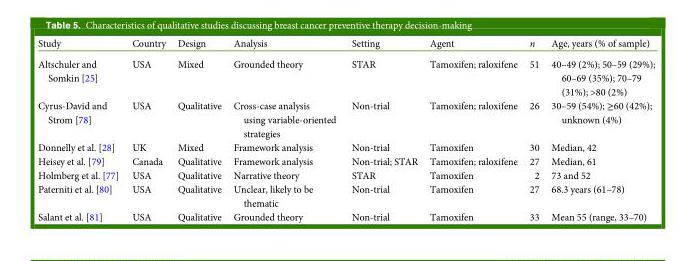table: (37, 37, 654, 222)
table column: (226, 37, 343, 222), (544, 37, 654, 222), (423, 37, 522, 222), (37, 37, 124, 222), (343, 37, 423, 222), (171, 37, 226, 222), (124, 37, 171, 222), (522, 37, 544, 222)
table column header: (37, 37, 654, 53)
table row: (37, 53, 654, 97), (37, 97, 654, 140), (37, 181, 654, 209), (37, 37, 654, 53), (37, 153, 654, 167), (37, 167, 654, 181), (37, 140, 654, 153), (37, 209, 654, 222)
